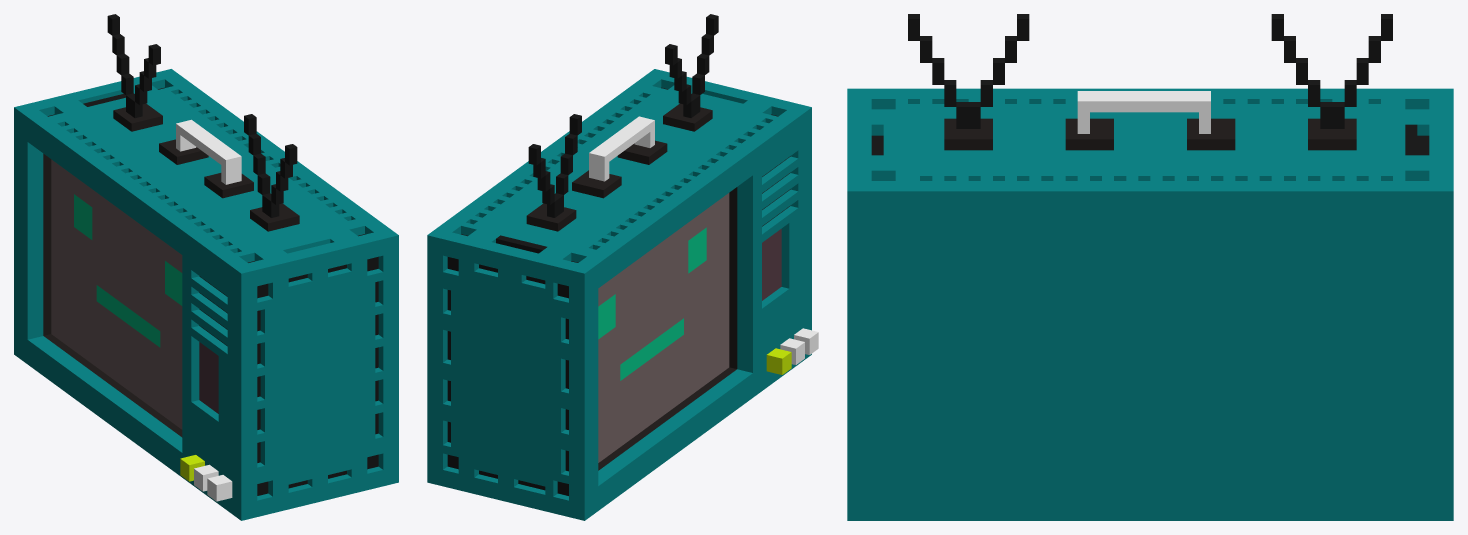
File: main.obj
3 views of the same model, side by side, from view 1: azimuth 30°, elevation 25°; view 2: azimuth 150°, elevation 25°; view 3: azimuth 270°, elevation 25° (orthographic). The views are drawn at different scales.
Size of the model in its own units: 2.2 by 4.1 by 5.
1 material, 1 textured.
